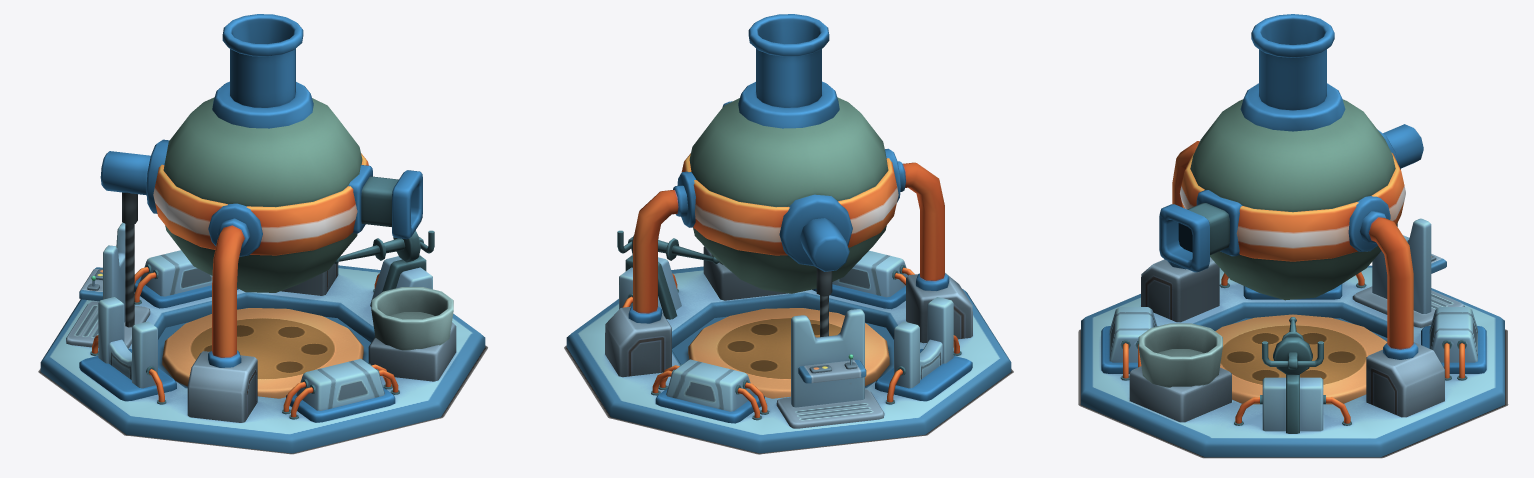
The model's file is ScienceLab_Item_ScienceCenter.FBX.
The picture shows the model from 3 angles, left to right: view 1: azimuth 30°, elevation 25°; view 2: azimuth 150°, elevation 25°; view 3: azimuth 270°, elevation 25°; orthographic projection. The views are drawn at different scales.
Visible parts, largest first — view 1: ScienceLab_Item_ScienceCenter, ScienceLab_Shadow_ScienceCenter; view 2: ScienceLab_Item_ScienceCenter, ScienceLab_Shadow_ScienceCenter; view 3: ScienceLab_Item_ScienceCenter, ScienceLab_Shadow_ScienceCenter.
Part boxes in pixels (left/top/right/bottom): ScienceLab_Item_ScienceCenter: left=40, top=14, right=485, bottom=453; ScienceLab_Shadow_ScienceCenter: left=38, top=345, right=487, bottom=454; ScienceLab_Item_ScienceCenter: left=566, top=14, right=1011, bottom=453; ScienceLab_Shadow_ScienceCenter: left=564, top=345, right=1013, bottom=454; ScienceLab_Item_ScienceCenter: left=1081, top=14, right=1504, bottom=457; ScienceLab_Shadow_ScienceCenter: left=1078, top=329, right=1508, bottom=458.
Size of the model in its own units: 7.09 by 5.8 by 7.06.
